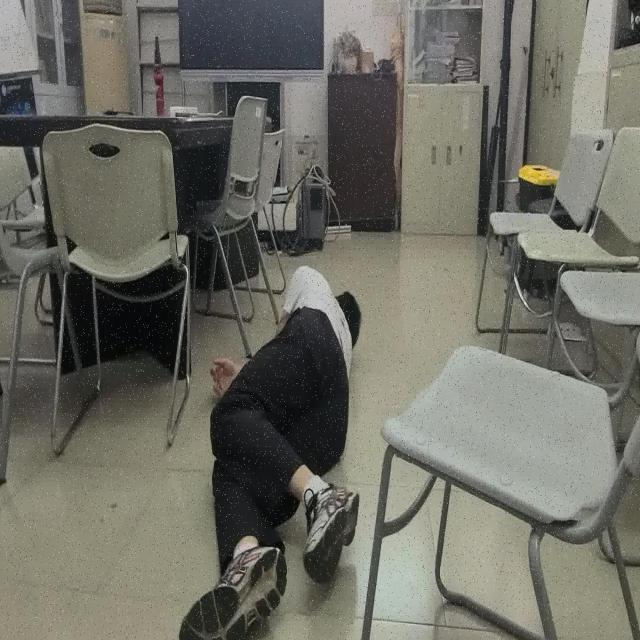fall: (174, 262, 363, 640)
